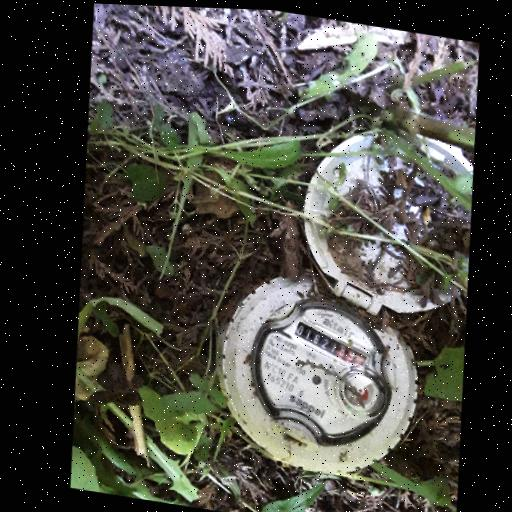0: (293, 320, 310, 340)
1: (326, 338, 343, 357), (301, 324, 317, 343)
2: (317, 333, 334, 353)
6: (310, 329, 326, 347)
8: (333, 342, 351, 362)
9: (342, 347, 359, 365)
border_water_meter_number: (286, 314, 375, 375)
